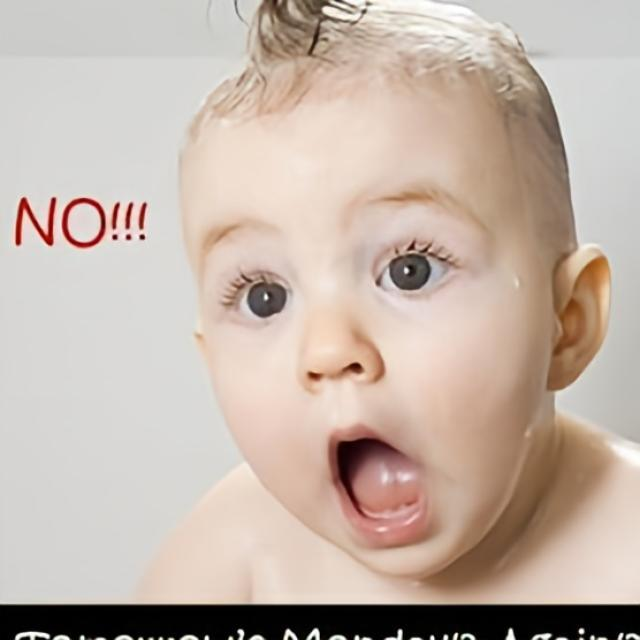surprise: (179, 62, 548, 576)
